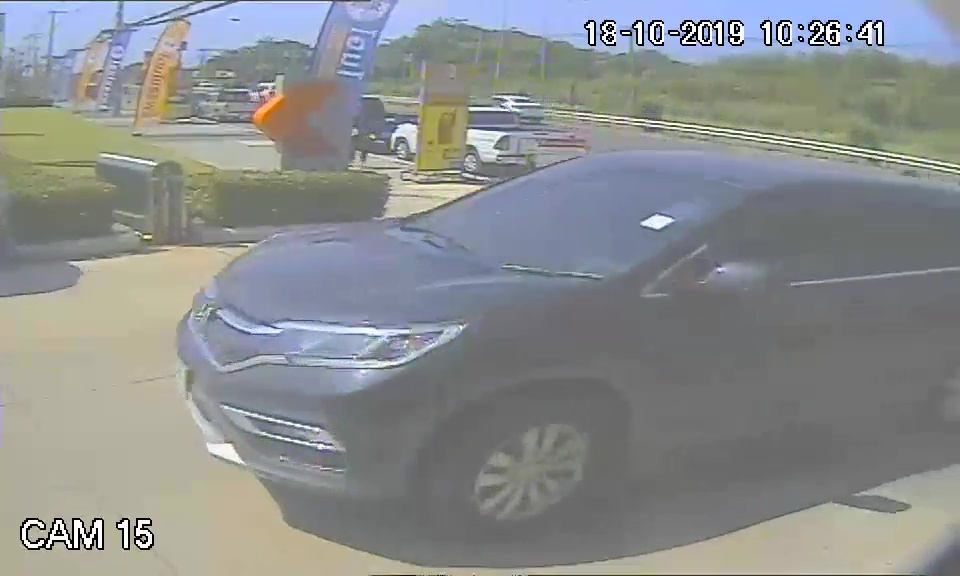pickup: (172, 143, 960, 546)
